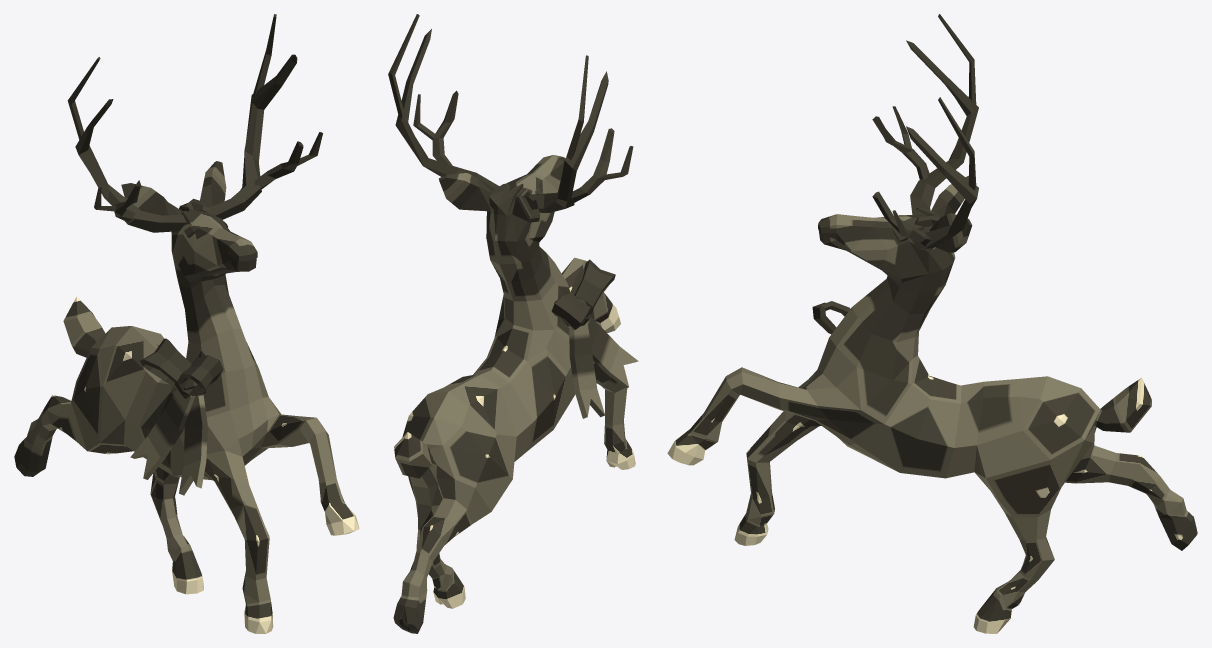
The model's file is SM_Prop_Reindeer_01.fbx.
3 renders of one model, left to right at view 1: azimuth 30°, elevation 25°; view 2: azimuth 150°, elevation 25°; view 3: azimuth 270°, elevation 25°, orthographic. The views are drawn at different scales.
Visible parts, largest first — view 1: SM_Prop_Reindeer_01; view 2: SM_Prop_Reindeer_01; view 3: SM_Prop_Reindeer_01.
Part boxes in pixels (<box>): SM_Prop_Reindeer_01: <box>14,14,359,633</box>; SM_Prop_Reindeer_01: <box>388,14,638,633</box>; SM_Prop_Reindeer_01: <box>667,14,1197,633</box>.
Size of the model in its own units: 70.19 by 174 by 149.
Materials: 1 (1 with a texture image).
